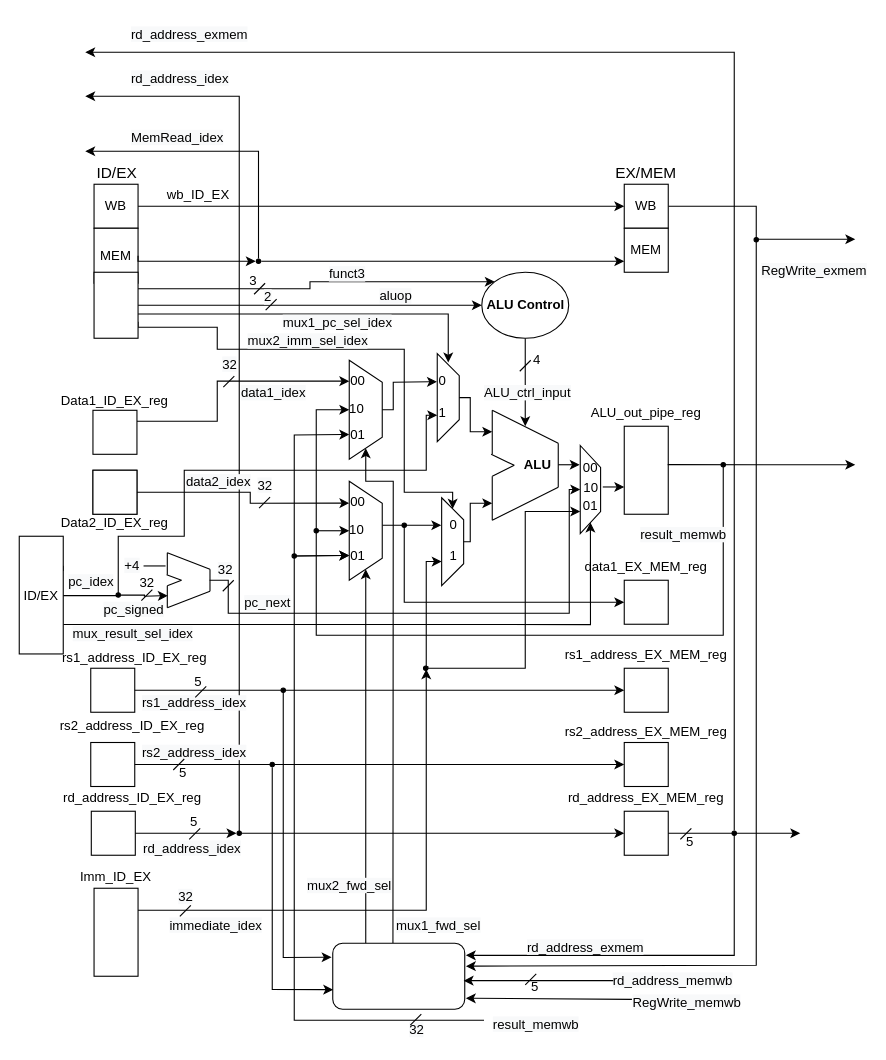
Image size: 886x1060. Some labels were removed from this diagram. Each missing label, with the centre of its shape:
"EX" goes at pixel 115 304.
"Forwarding Unit" goes at pixel 398 975.
